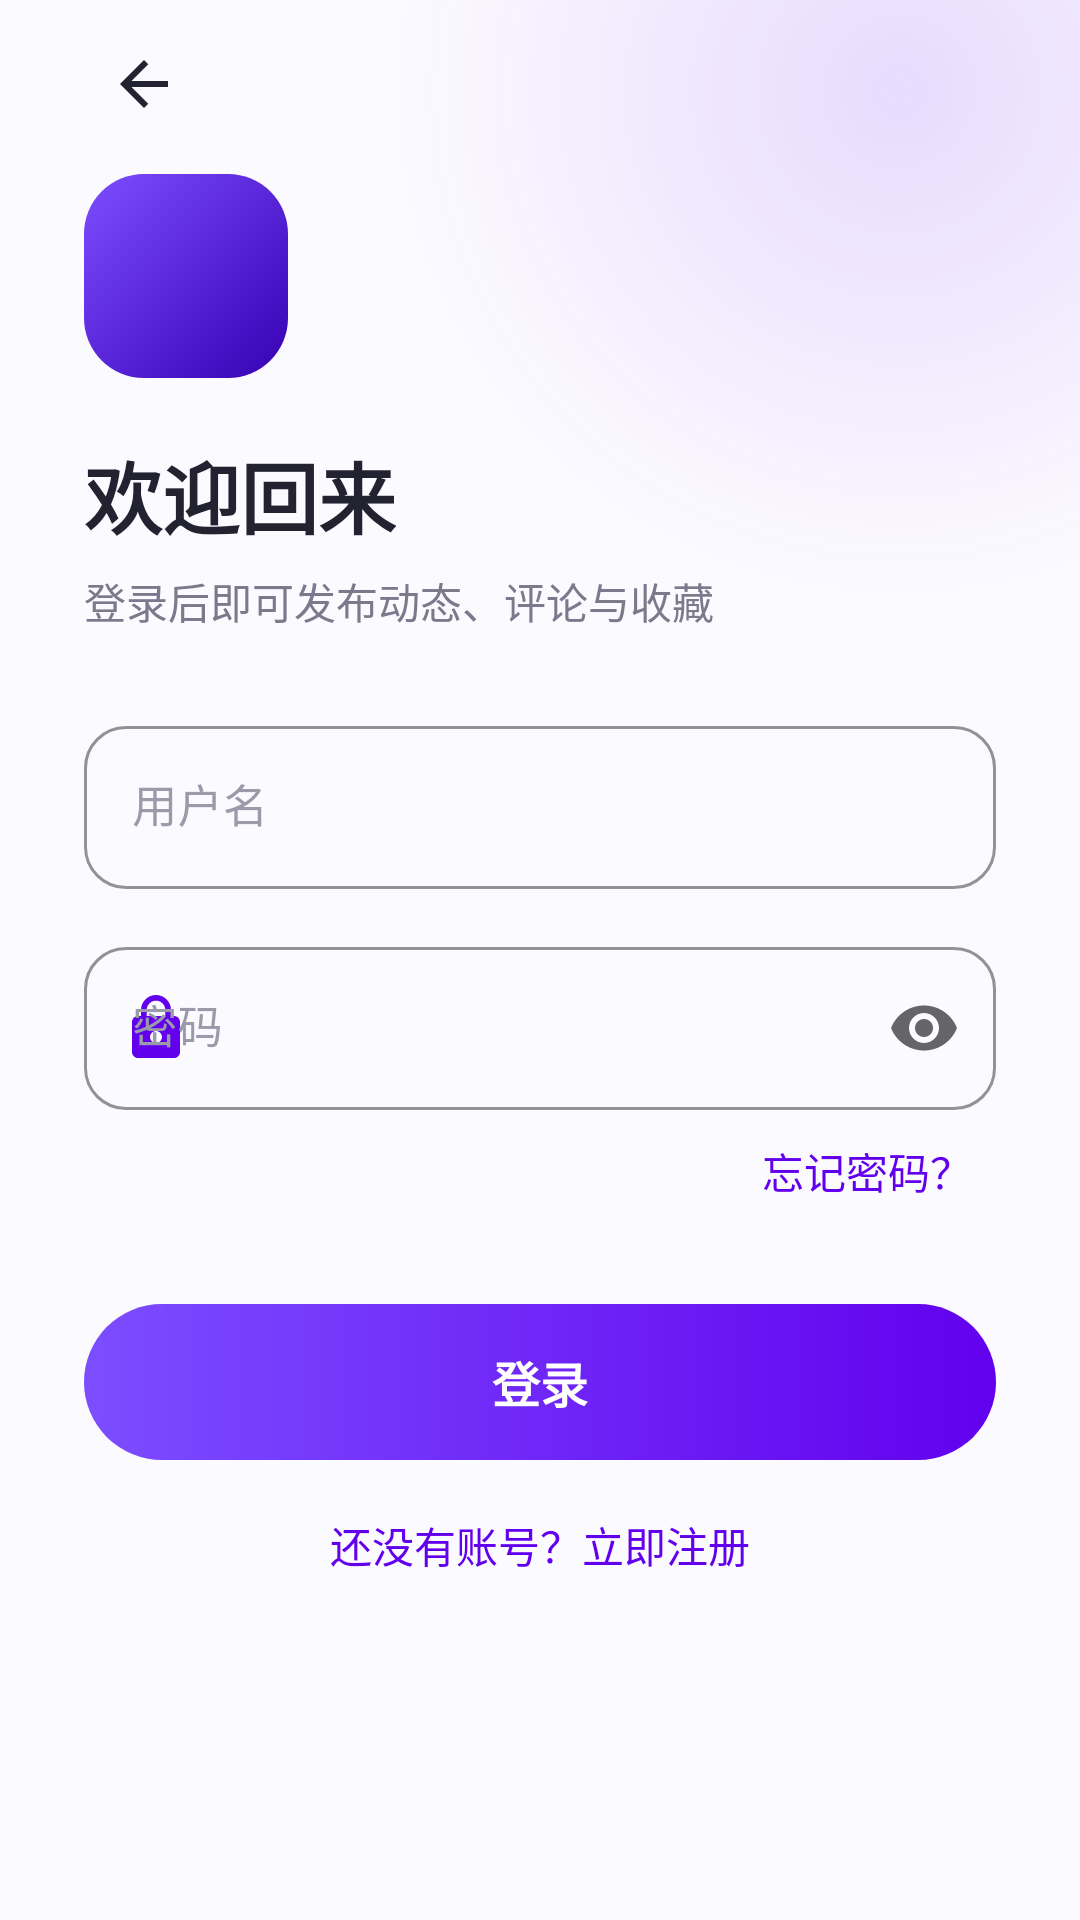

Screen size 1080w x 1920h. Icon name, then its center in pixels as [x,y]:
返回: [144,84]
